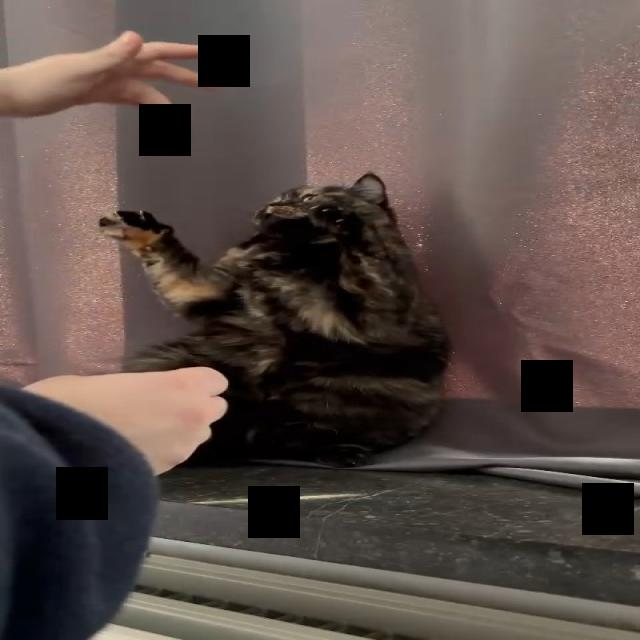authorized: (98, 170, 454, 468)
